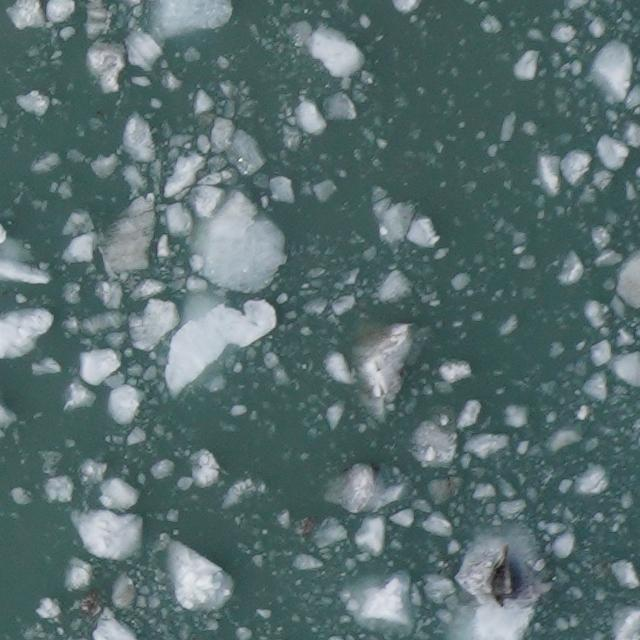seal: (487, 540, 516, 611)
